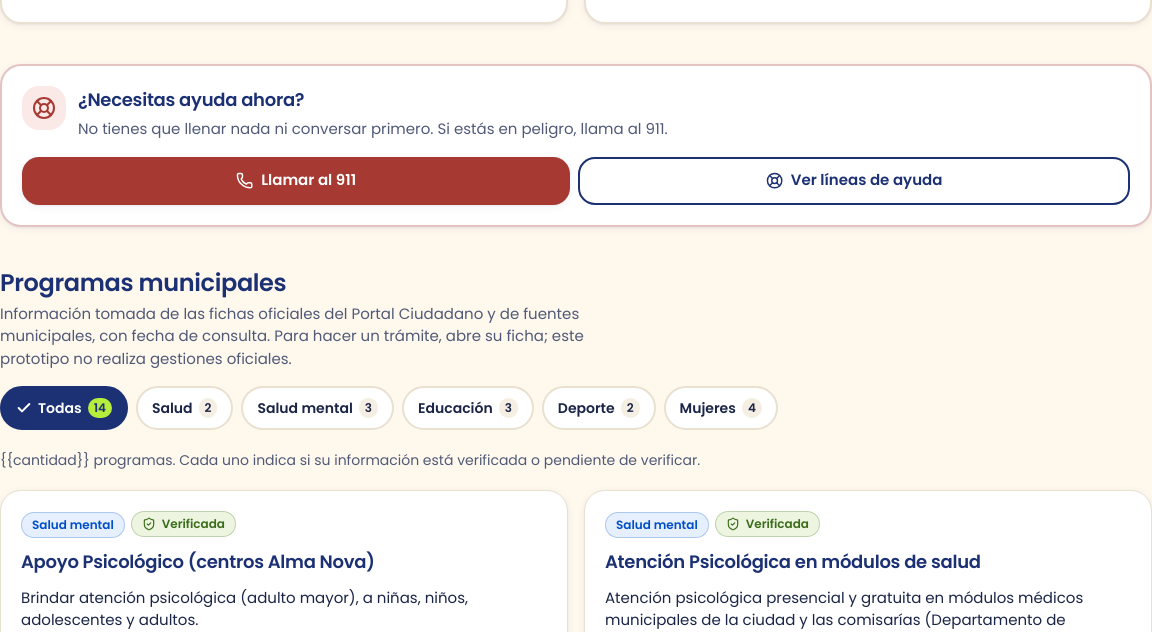
Test: Bienestar › filtra los programas por área sin tocar la URL
The image size is (1152, 632).
(page scrolled)
Expected: the heading "Apoyo Psicológico (centros Alma Nova)" is shown, [21,549,375,574]
Click the button "Mujeres 4": click(721, 408) [664,386,778,430]
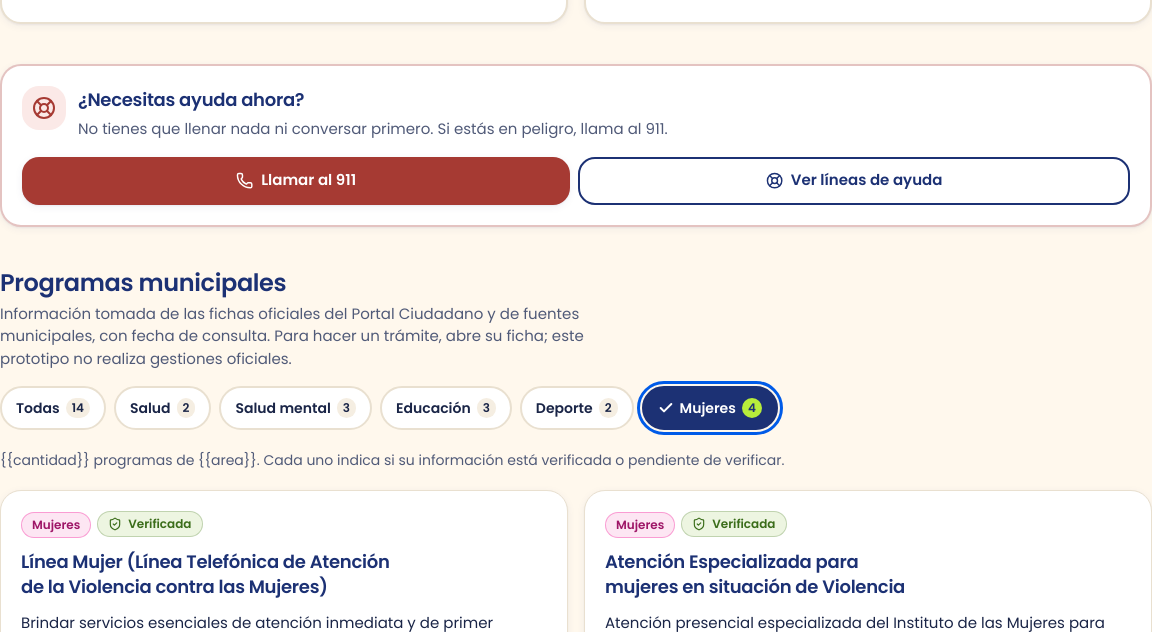
Expected: the heading "Atención Especializada" is shown, [605,549,905,599]
Expected: the heading "Apoyo Psicológico (centros Alma Nova)" is gone
